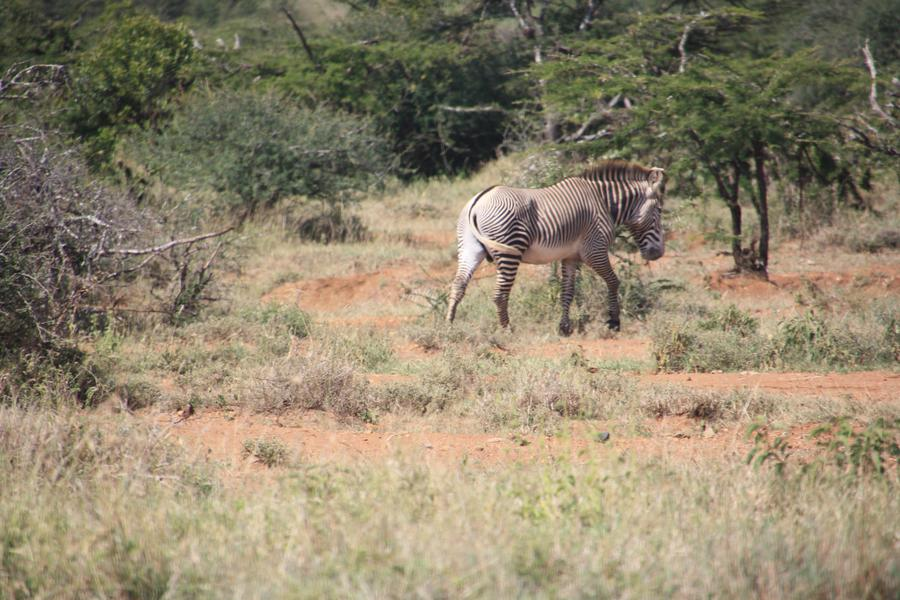zebra_grevys: (474, 182, 611, 250)
